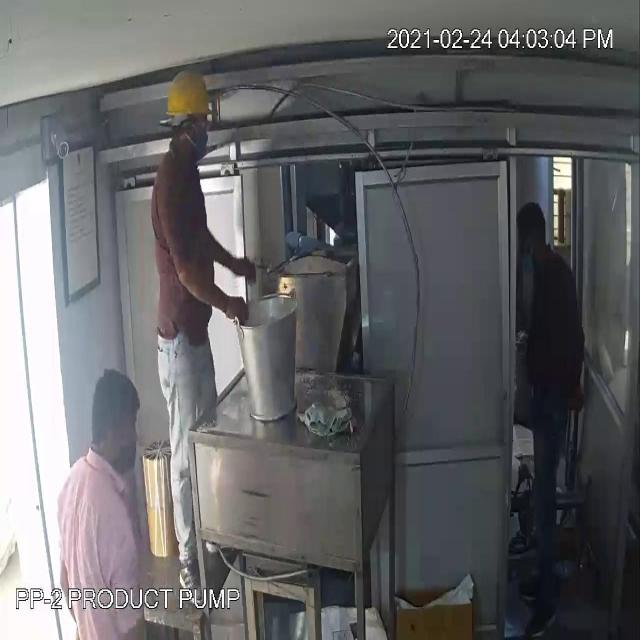helmet: (163, 52, 217, 142)
no-helmet: (80, 369, 144, 459)
